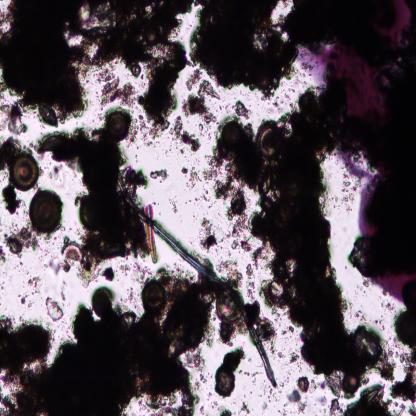Background material: (218, 85, 396, 394), (0, 275, 214, 416), (0, 0, 193, 132), (38, 111, 153, 281), (191, 0, 301, 99), (140, 41, 188, 150), (214, 175, 252, 252), (183, 66, 219, 127), (329, 382, 391, 415), (212, 347, 246, 399), (99, 70, 139, 108), (391, 346, 416, 403), (248, 300, 279, 342), (171, 116, 200, 156), (184, 157, 224, 186), (287, 376, 319, 410), (3, 226, 39, 256), (198, 215, 226, 253), (2, 183, 27, 216), (339, 176, 359, 212), (22, 276, 42, 310), (0, 139, 21, 171), (43, 292, 65, 321), (244, 262, 258, 302), (46, 253, 70, 275), (46, 162, 72, 182), (234, 97, 252, 119), (151, 166, 170, 183), (102, 264, 118, 283), (167, 194, 181, 215), (286, 349, 300, 366), (240, 400, 250, 414), (15, 259, 25, 272), (0, 244, 6, 263), (276, 350, 287, 360), (259, 399, 268, 410), (217, 409, 230, 416), (198, 404, 205, 416), (252, 372, 259, 384), (238, 369, 250, 376)
Diatom: (29, 189, 62, 233), (214, 286, 244, 326), (254, 120, 283, 161), (10, 154, 39, 191), (140, 277, 168, 312), (104, 111, 131, 142), (144, 205, 158, 262), (394, 310, 416, 344), (60, 241, 83, 263)
Microfibre: (134, 210, 276, 388)
Pen: (293, 0, 416, 304)
